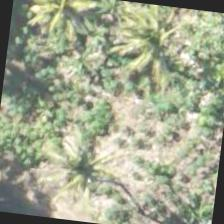Kelapa_Sawit: (104, 0, 204, 93), (11, 0, 108, 52)
